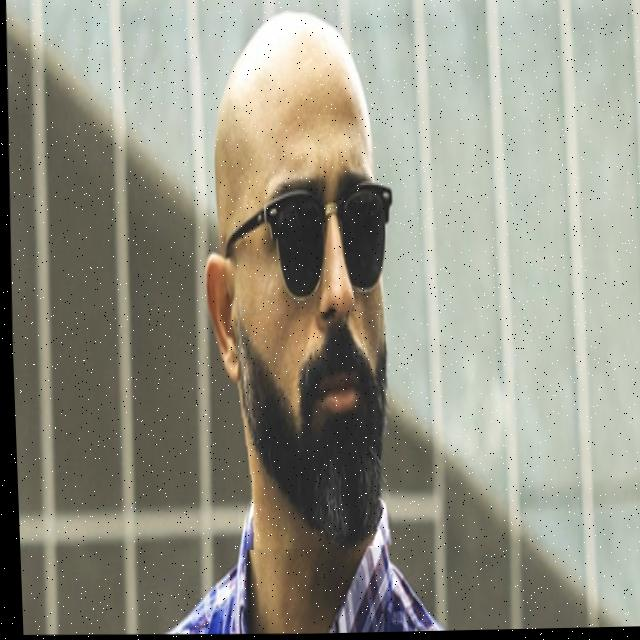beard: (231, 317, 381, 548)
